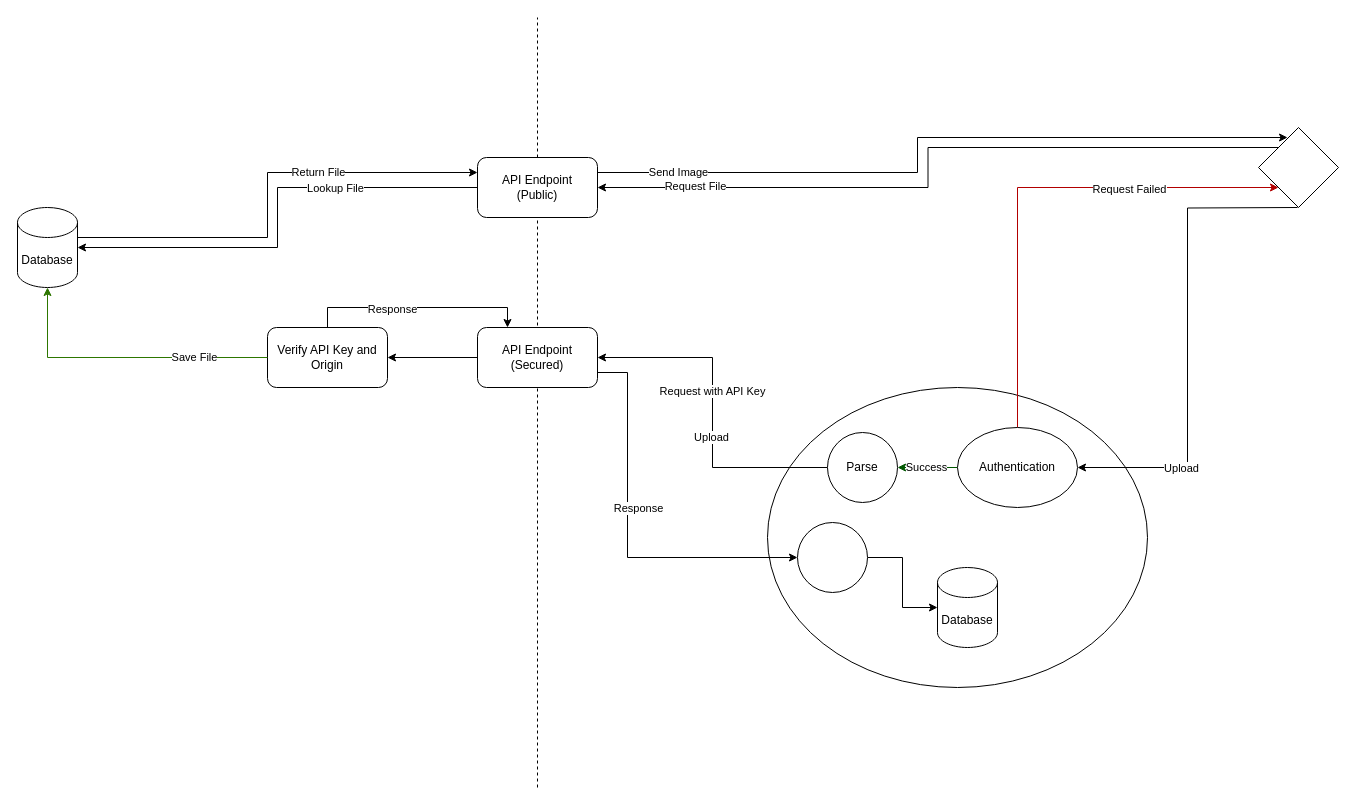
The diagram is 1356 pixels wide and 806 high, and some of its shapes have lost their labels. Here are the shapes that lost their labels. From the top down, the box of each, then its label:
(1258, 126, 1338, 208): Client (Browser)
(796, 522, 868, 592): Store URL
(766, 386, 1148, 688): Webserver
